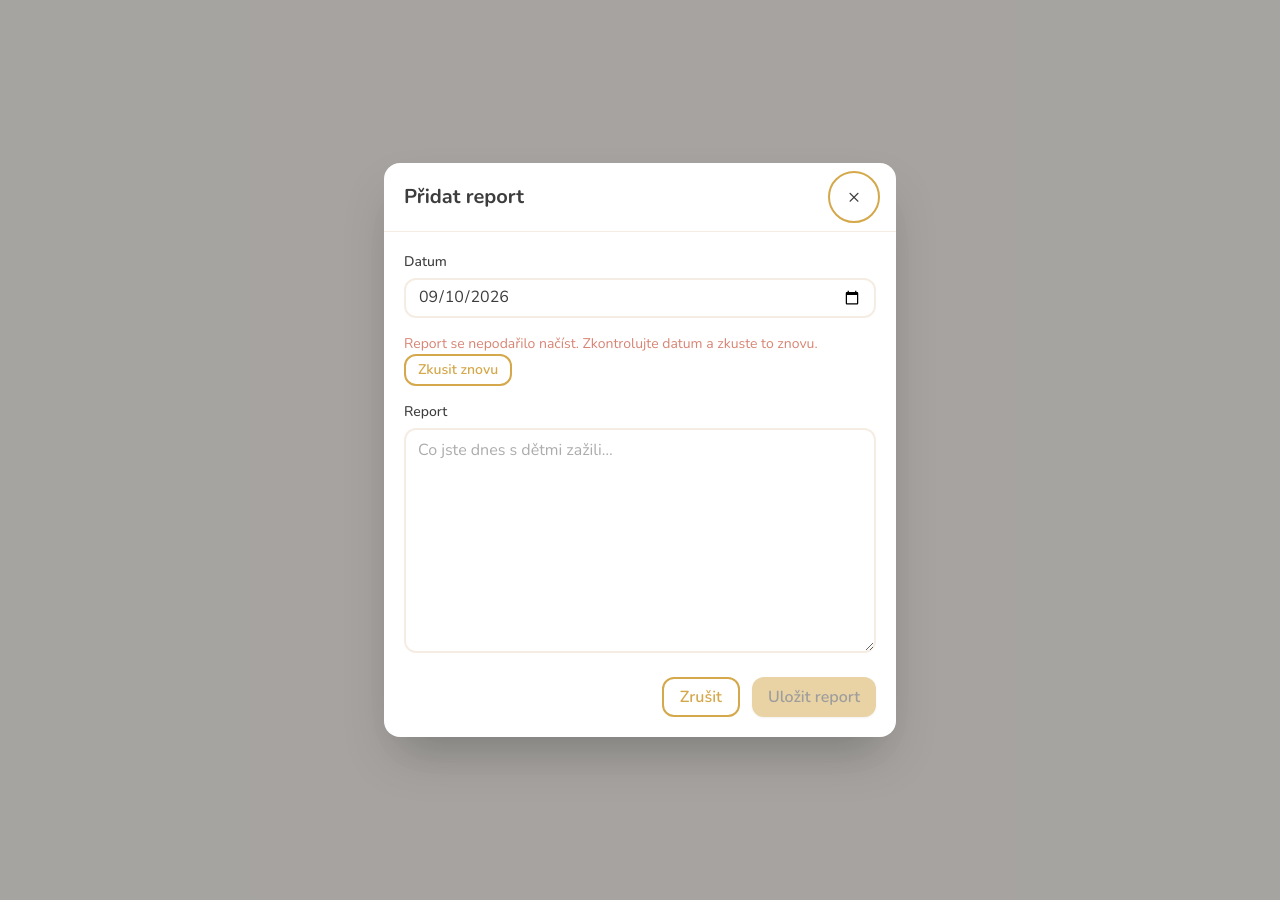
it: locks a failed report retry until the request finishes
Click the button "Zkusit znovu". click: (458, 370)
box: [404,354,512,386]
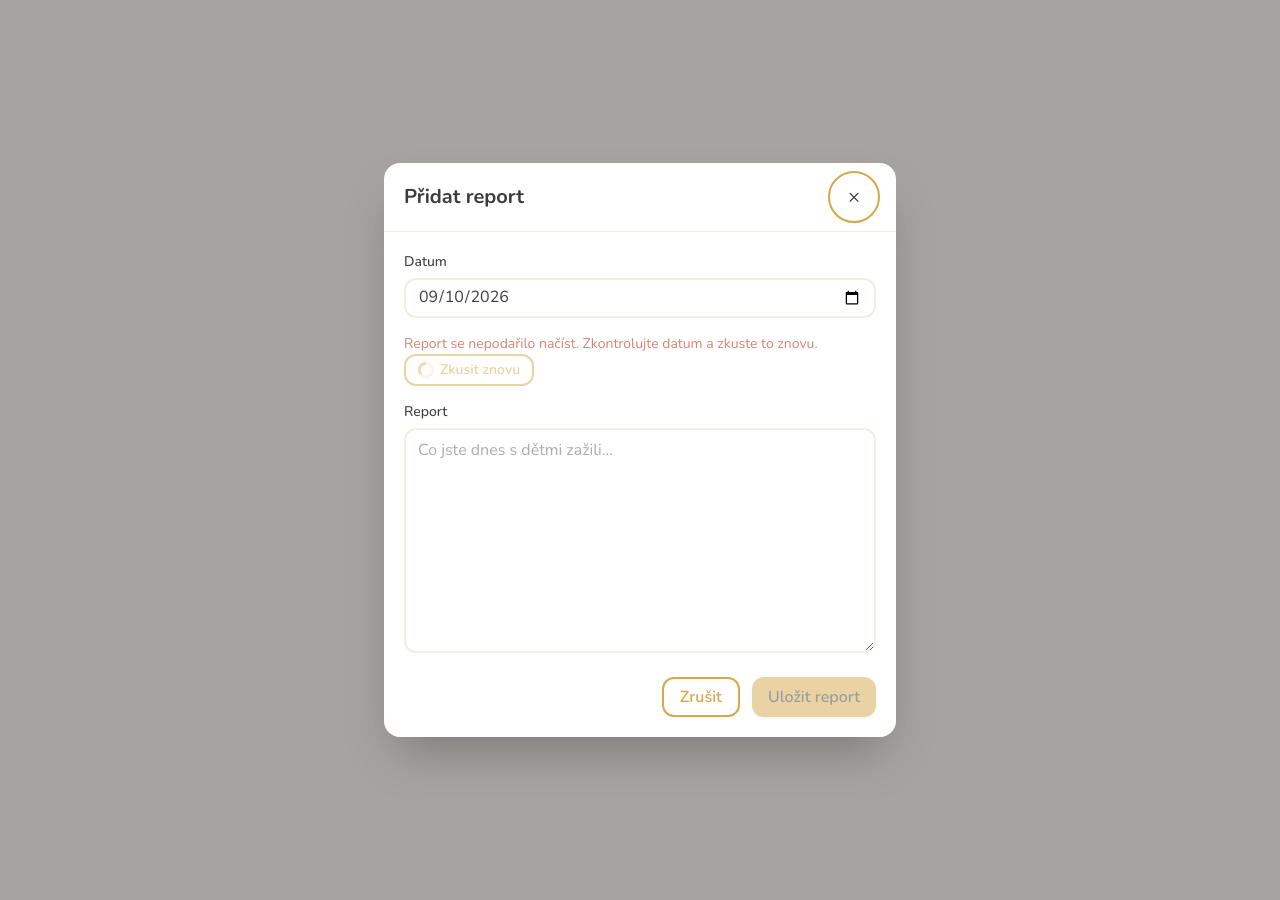
Expected: the button "Zkusit znovu" is disabled
Click the button "Zkusit znovu". click: (469, 370)
box: [404,354,534,386]
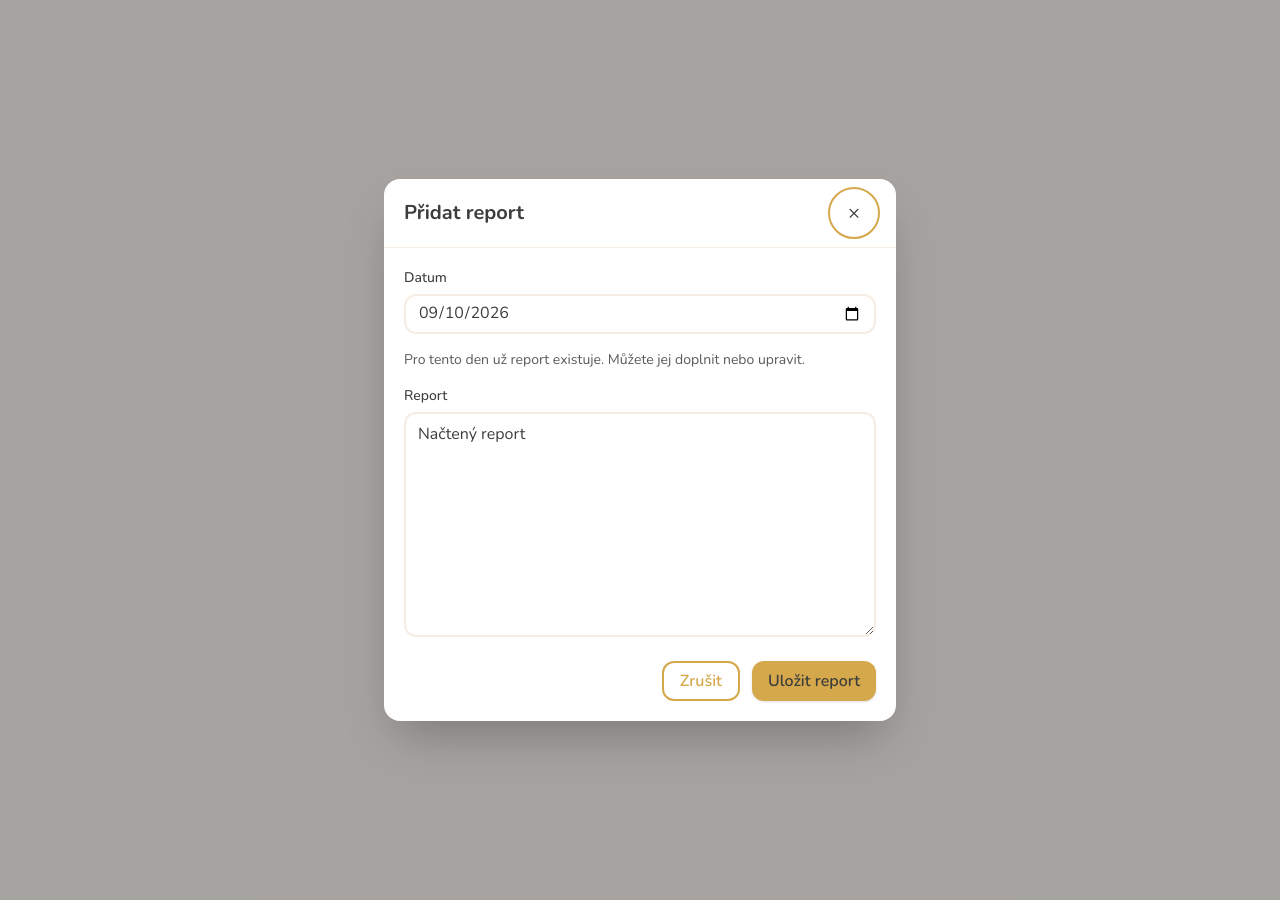
Expected: the text box labelled "Report" holds "Načtený report", [404,412,876,637]
